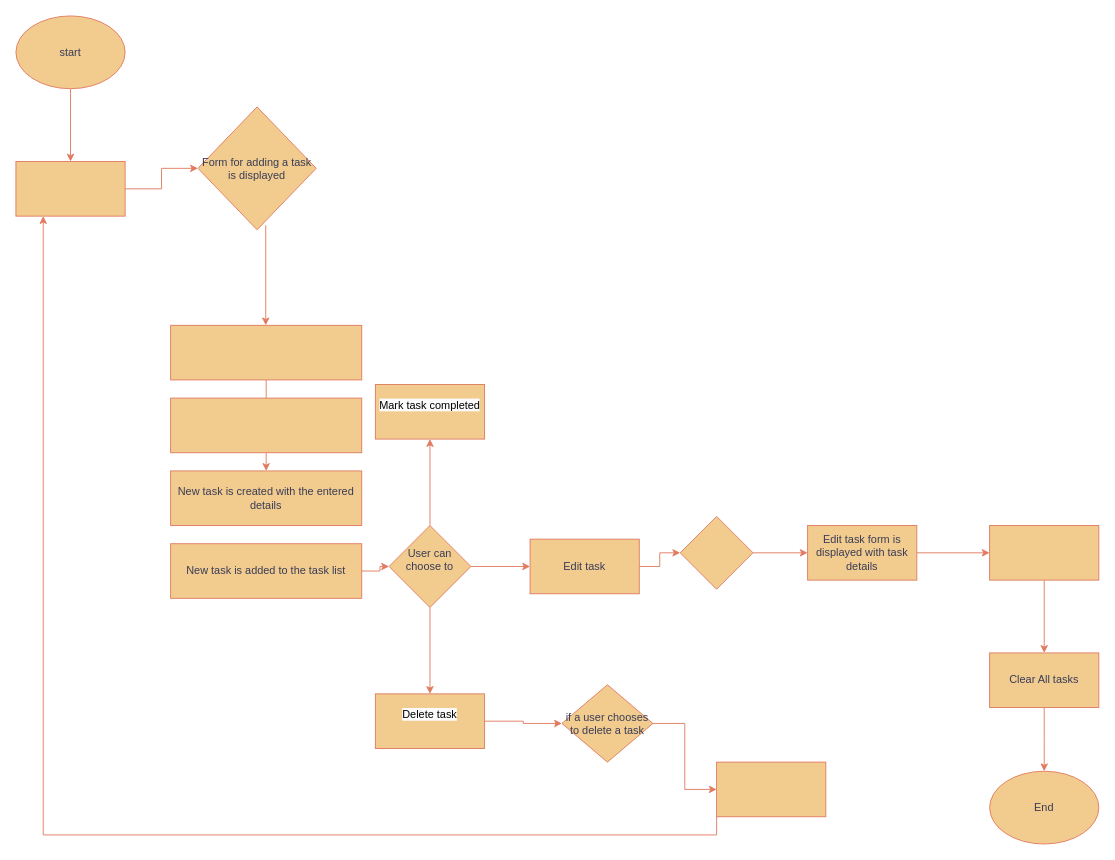
The diagram is 1115 pixels wide and 860 high, and some of its shapes have lost their labels. Here are the shapes that lost their labels. From the top down, the centre of each, then its label:
At (70,188): "User clicks on Add task".
At (266,352): "user fills in task details(title, description , due date)".
At (266,425): "confirm".
At (716,552): "If a user chooses to edit task".
At (1044,552): "confirm to save changes".
At (771,789): "Task is removed from the task list".
